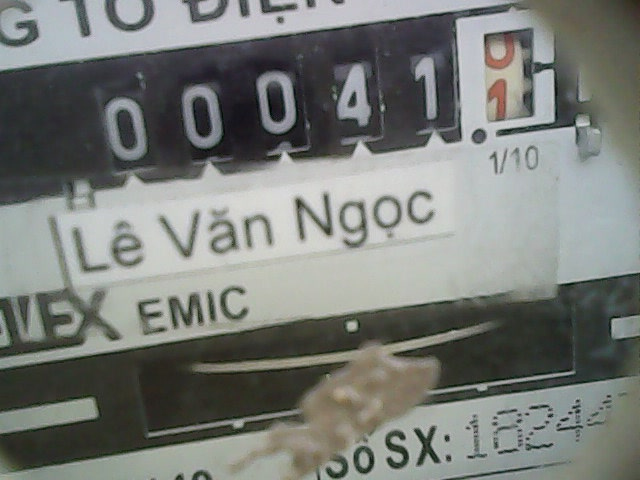phy_plate: (76, 25, 560, 186)
